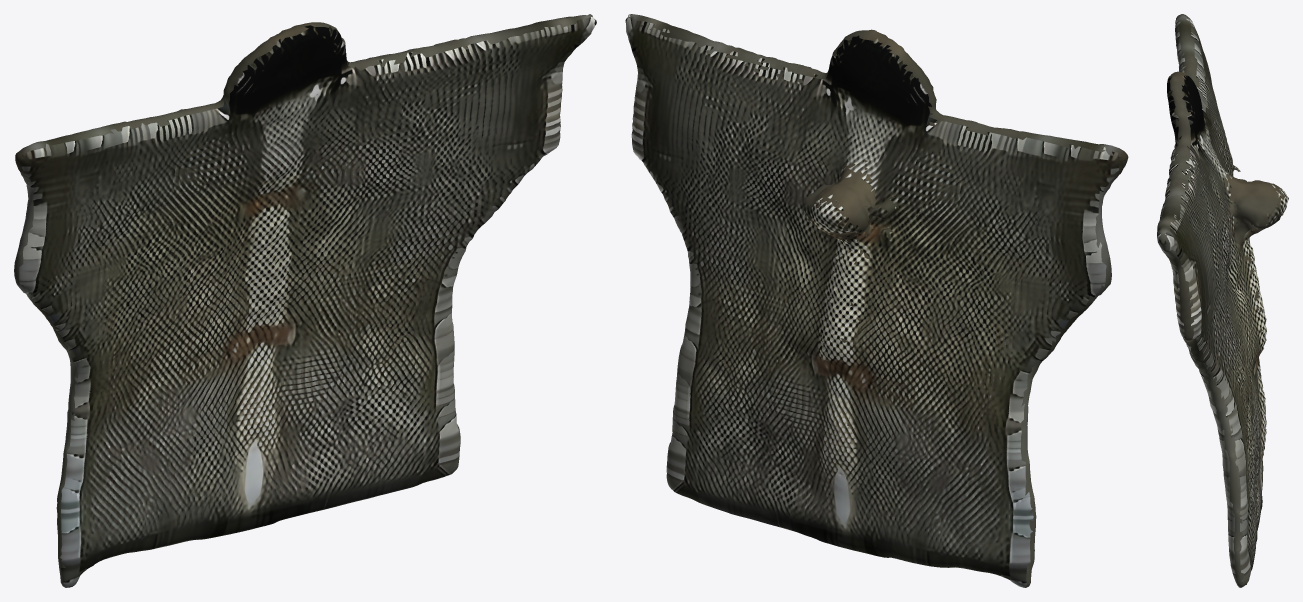
Rendered from kfl-2281.glb.
3 views of the same model, side by side, from view 1: azimuth 30°, elevation 25°; view 2: azimuth 150°, elevation 25°; view 3: azimuth 270°, elevation 25° (orthographic). The views are drawn at different scales.
Parts seen in each view (by area): view 1: kfl-2281; view 2: kfl-2281; view 3: kfl-2281.
Part boxes in pixels (bbox=[...]): kfl-2281: bbox=[14, 14, 596, 587]; kfl-2281: bbox=[625, 14, 1128, 587]; kfl-2281: bbox=[1157, 14, 1288, 587].
Size of the model in its own units: 0.9853 by 0.8962 by 0.2376.
4 materials, 4 textured.
